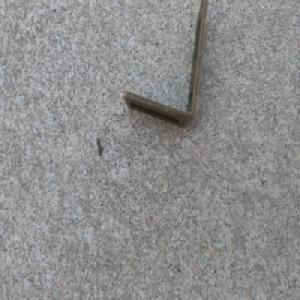MetalPart: (123, 0, 208, 128)
